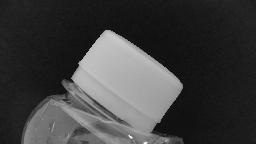Broken Cap: (52, 25, 188, 138)
